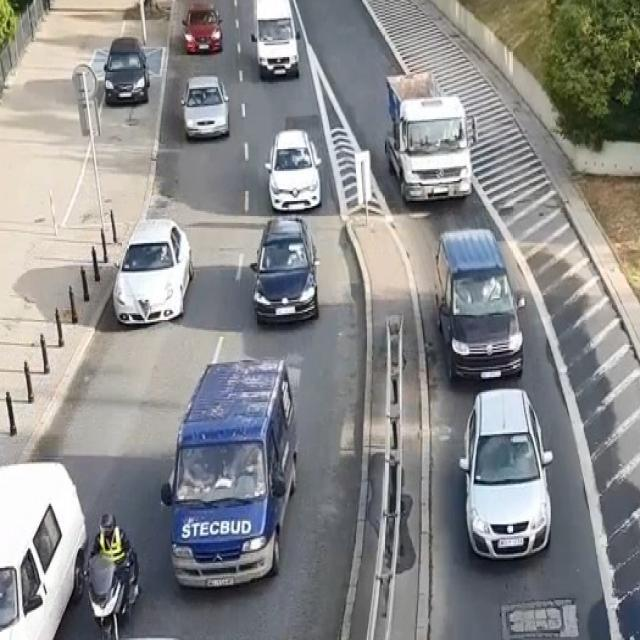car: (459, 389, 552, 559), (0, 462, 86, 639), (436, 230, 524, 379), (112, 219, 192, 324), (251, 219, 319, 324), (265, 130, 321, 211), (104, 38, 150, 104), (181, 76, 229, 137), (182, 6, 222, 54)
lorry: (385, 72, 472, 201)
minivan: (161, 360, 298, 588)
